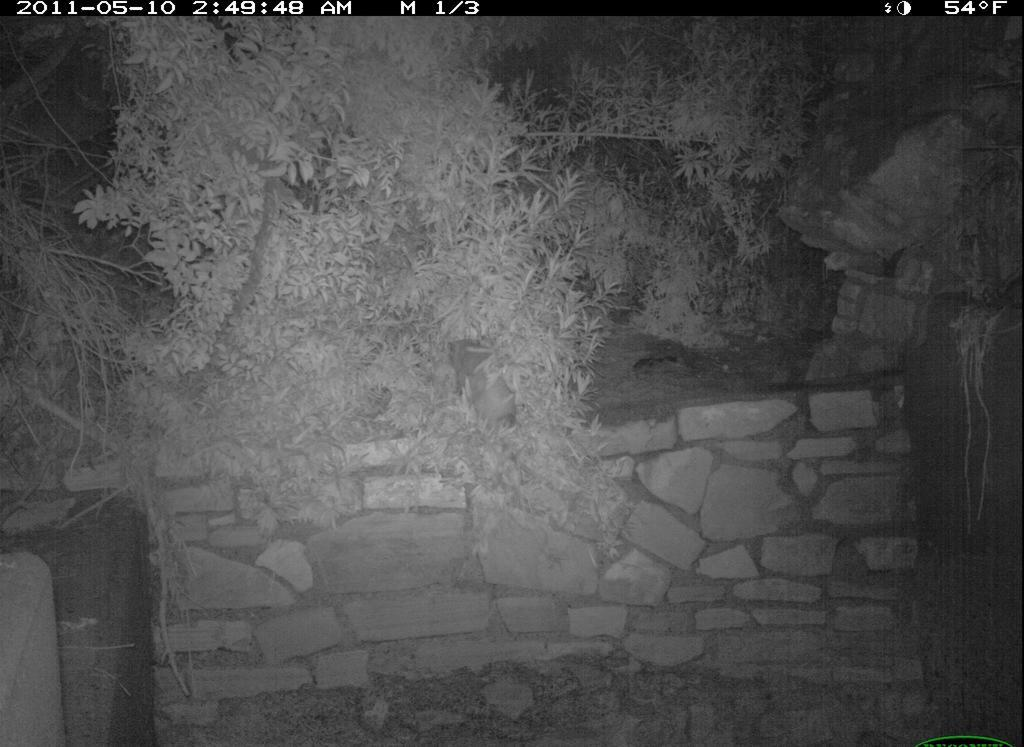opossum: (440, 328, 537, 452)
